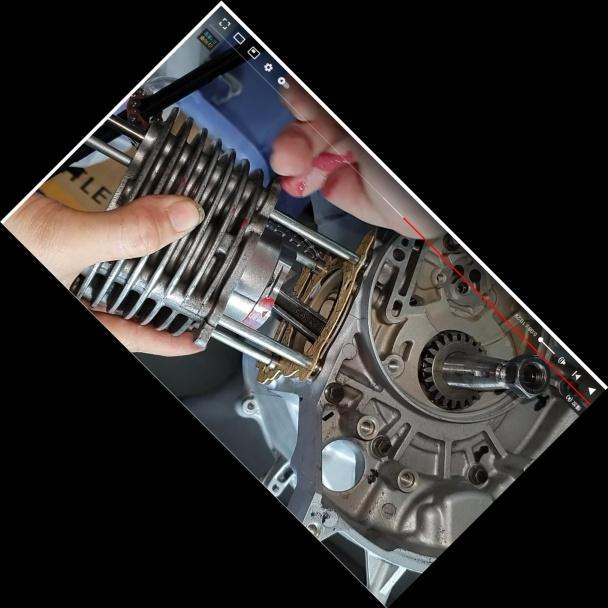hole: (392, 464, 423, 495), (354, 413, 381, 440), (429, 265, 452, 288), (382, 355, 405, 377)
